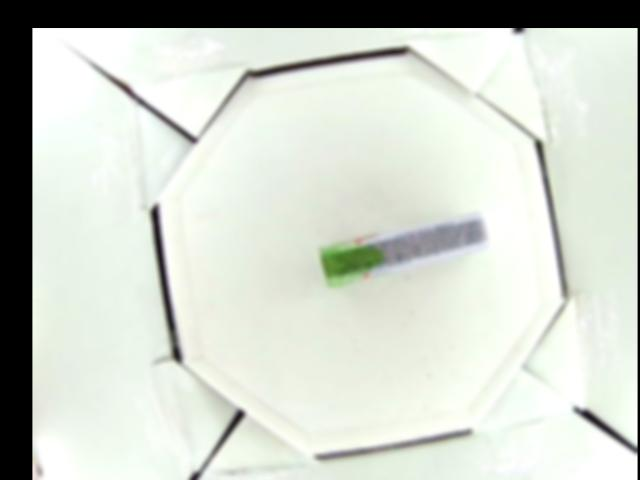Bottle: (317, 208, 491, 292)
